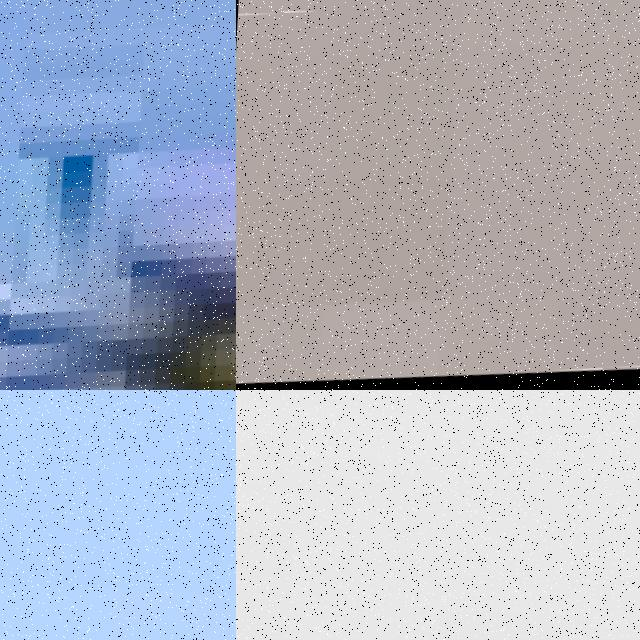drone: (236, 7, 640, 390), (0, 0, 236, 390)
